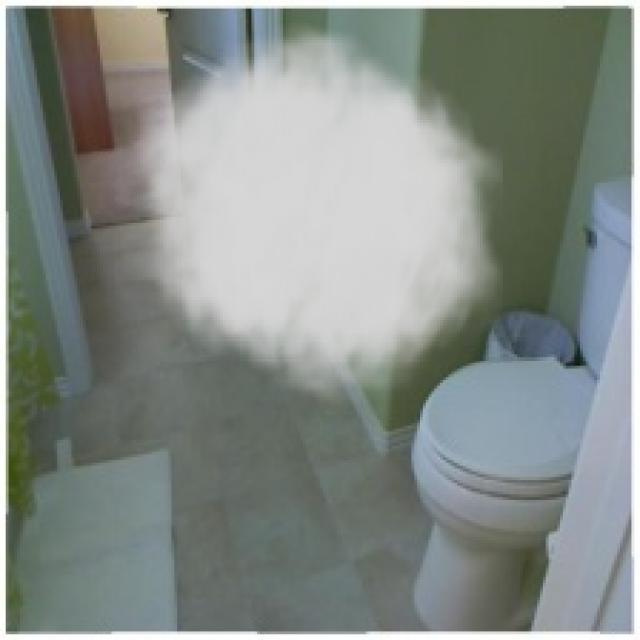smoke: (120, 12, 503, 414)
